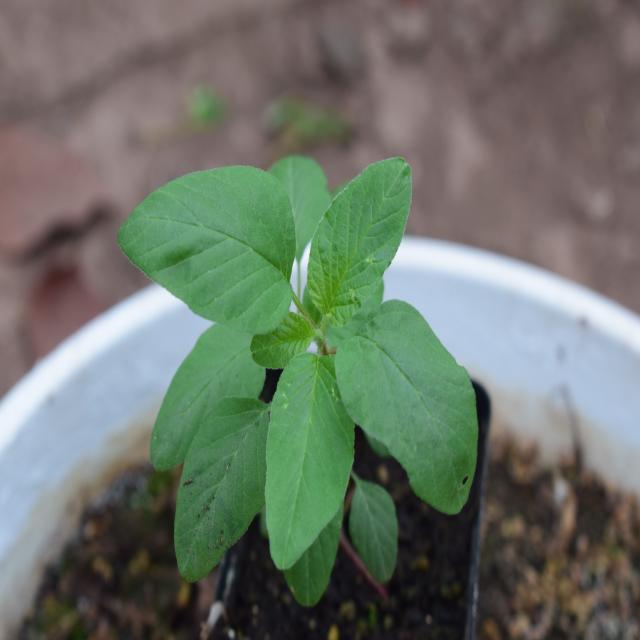pigweed: (114, 151, 486, 564)
